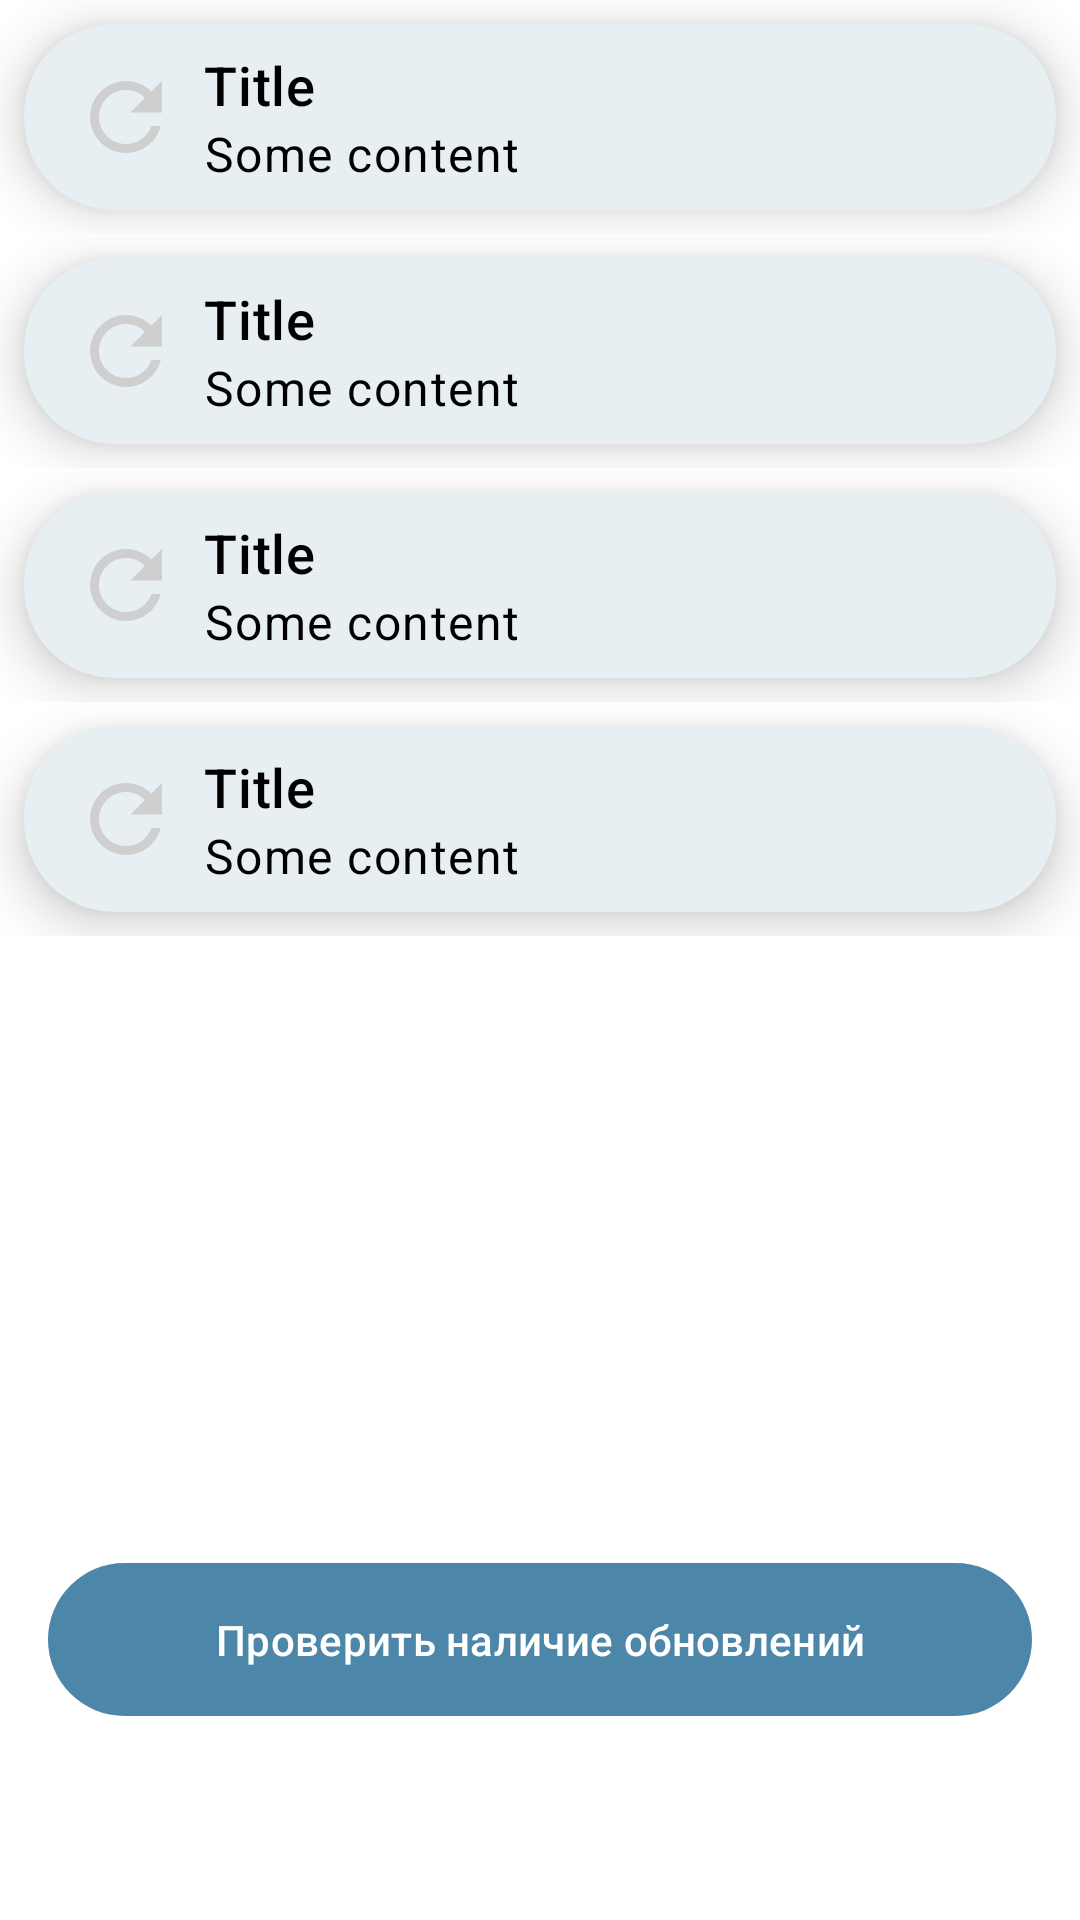

Named icons in this screenshot (1080px x 1920px) and their bounding boxes, (x1, y1, x2, y2):
refresh: (90, 81, 162, 153), (90, 315, 162, 387), (90, 549, 162, 621), (90, 783, 162, 855)
